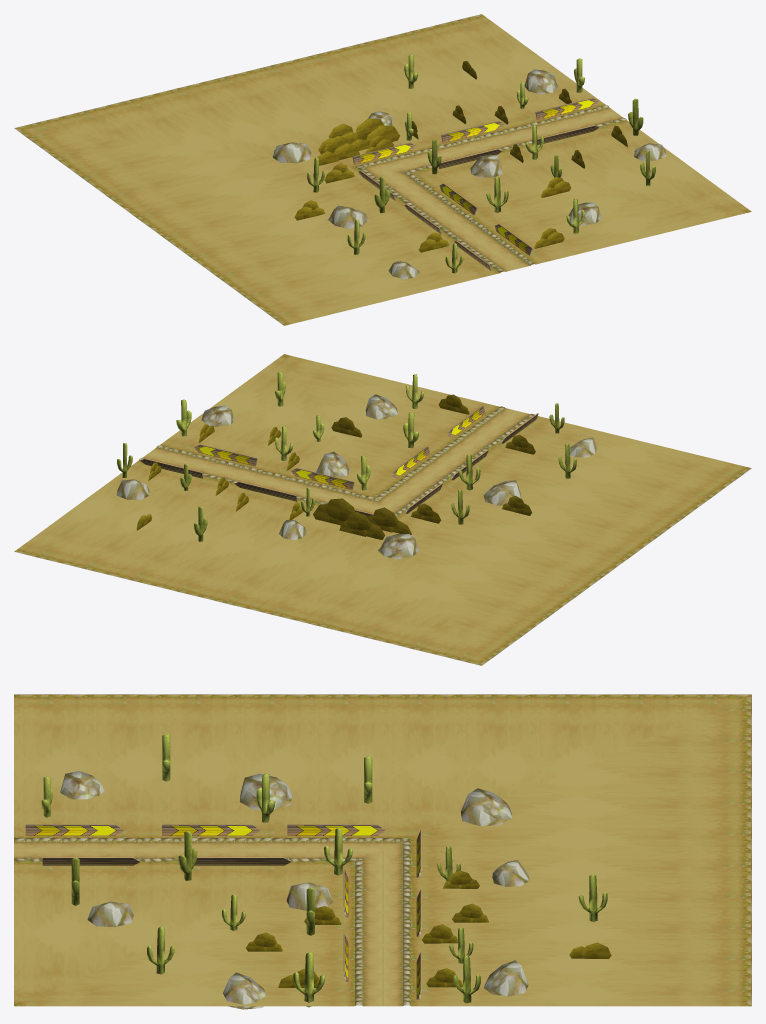
Rendered from DesertRoad01_Right.FBX.
The picture shows the model from 3 angles, top to bottom: view 1: azimuth 30°, elevation 25°; view 2: azimuth 150°, elevation 25°; view 3: azimuth 270°, elevation 25°; orthographic projection. The views are drawn at different scales.
Parts seen in each view (by area): view 1: Road, Stone (×4), Fence (×3), Bush (×2); view 2: Road, Stone (×6), Bush (×3), Fence (×2); view 3: Road, Stone (×8), Fence (×5), Cactus (×7), Bush.
Boxes of the visible parts, left/top/right/bottom form: Road: left=14, top=14, right=751, bottom=325; Stone (×4): left=273, top=69, right=559, bottom=228; Fence (×3): left=352, top=98, right=598, bottom=164; Bush (×2): left=314, top=118, right=399, bottom=165; Road: left=14, top=354, right=751, bottom=665; Stone (×6): left=117, top=394, right=521, bottom=559; Bush (×3): left=313, top=498, right=411, bottom=539; Fence (×2): left=194, top=444, right=354, bottom=490; Road: left=14, top=694, right=751, bottom=1006; Stone (×8): left=60, top=771, right=529, bottom=1009; Fence (×5): left=25, top=824, right=385, bottom=865; Cactus (×7): left=147, top=773, right=607, bottom=1007; Bush: left=569, top=942, right=611, bottom=958.
Size of the model in its own units: 10000 by 916 by 10000.
